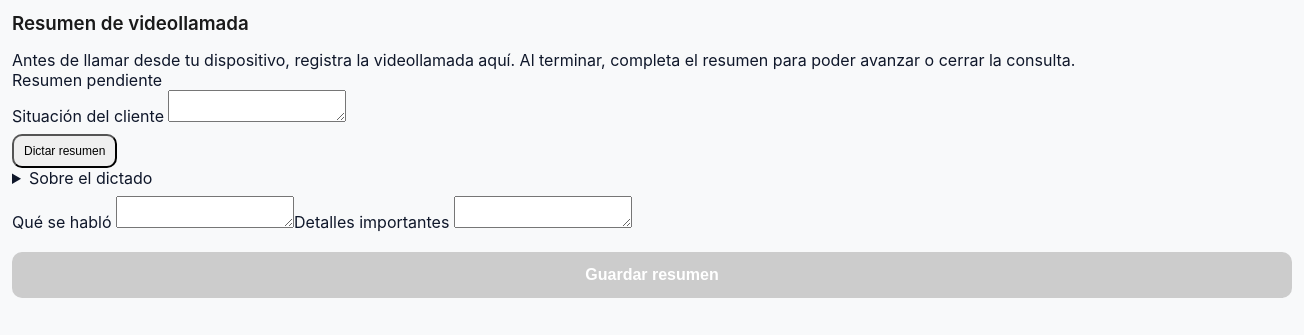
Test: keeps the summary pending when saving fails
The width and height of the screenshot is (1304, 335).
Step 1. Type "dato" into the text box labelled "Situación del cliente" → (258, 106), box x1=168 y1=90 x2=346 y2=122
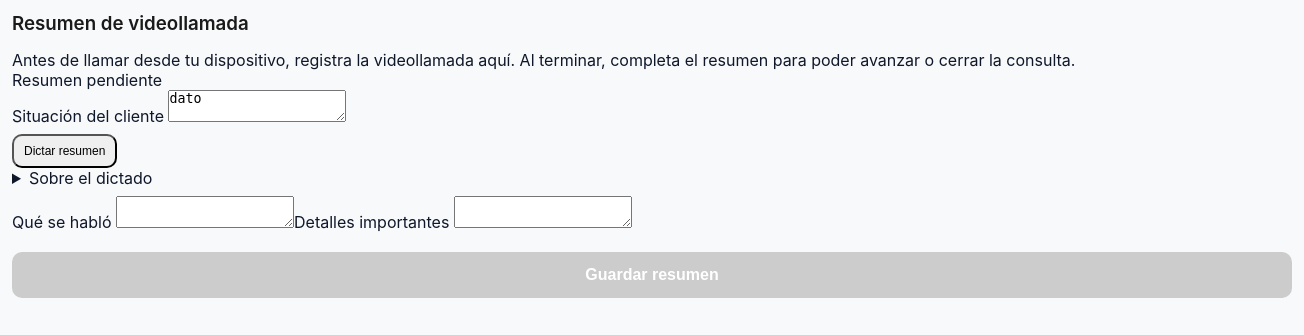
Step 2. Type "dato" into the text box labelled "Qué se habló" → (205, 212), box x1=116 y1=196 x2=294 y2=228
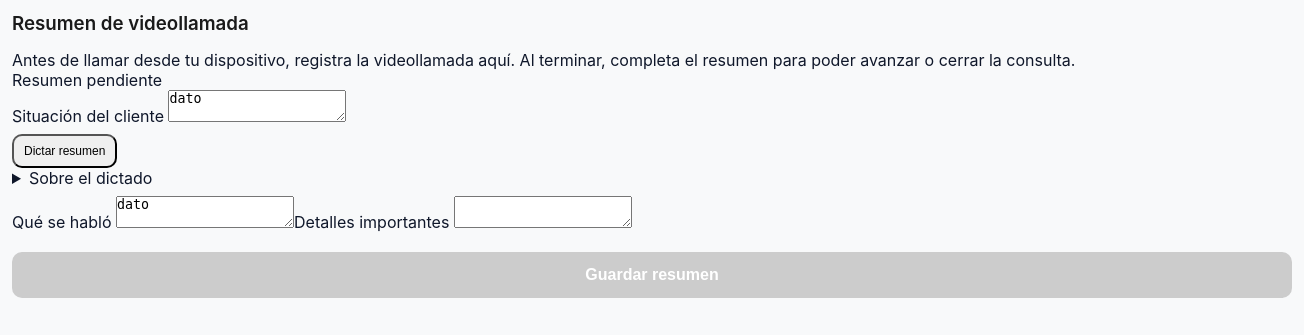
Step 3. Type "dato" into the text box labelled "Detalles importantes" → (543, 212), box x1=454 y1=196 x2=632 y2=228
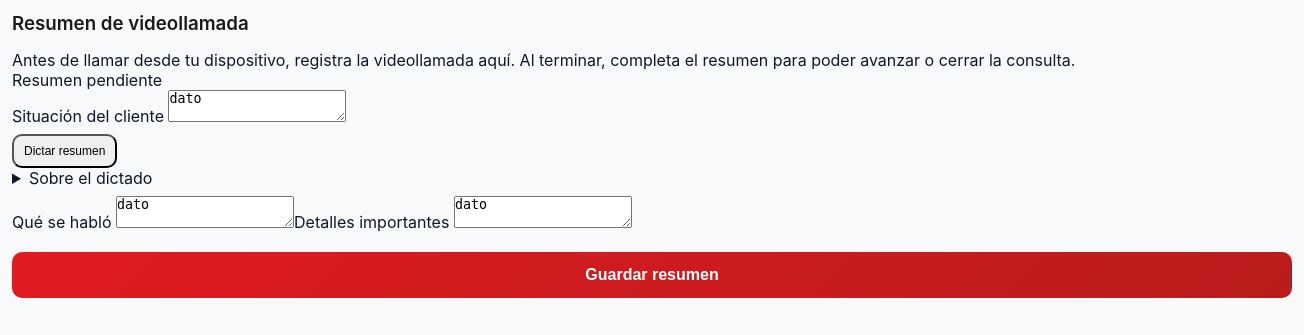
Step 4. Click the button "Guardar resumen" → (652, 275), box x1=12 y1=252 x2=1292 y2=298
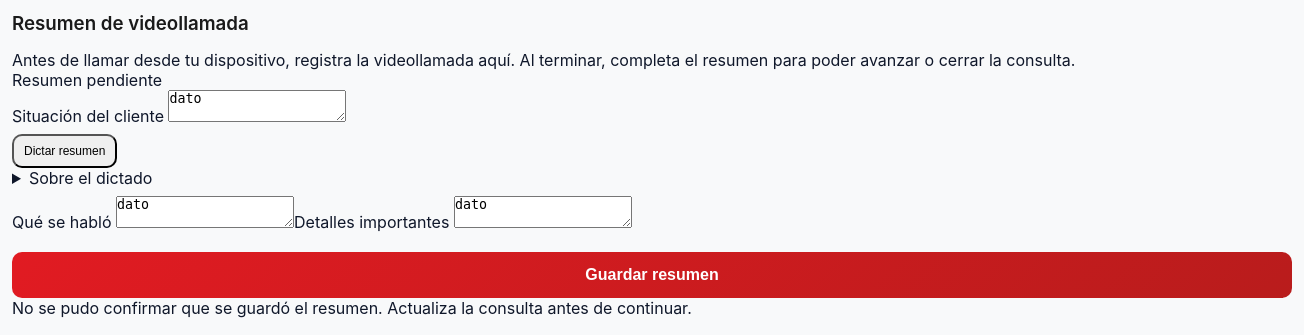
Expected: the text "Resumen pendiente" is shown, x1=12 y1=70 x2=162 y2=90
Result: the 2nd message shows "No se pudo confirmar" at x1=12 y1=298 x2=692 y2=318
